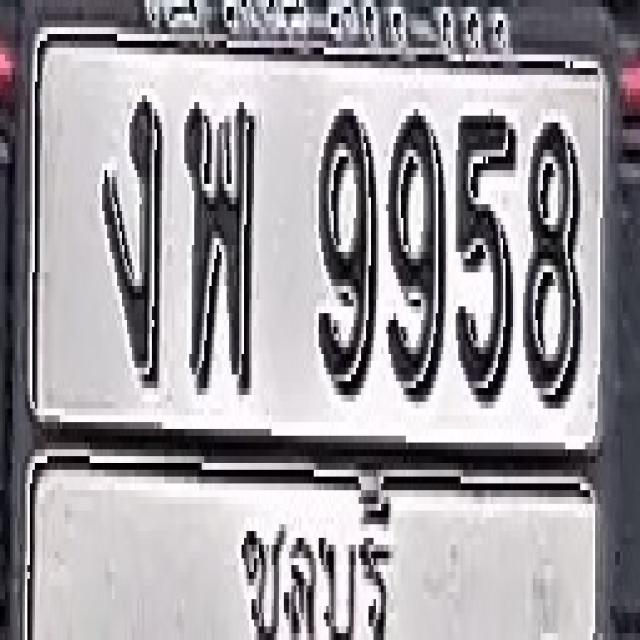5: (456, 109, 516, 402)
8: (523, 116, 580, 402)
9: (316, 102, 376, 395), (387, 109, 445, 402)
A07: (102, 92, 162, 385)
A30: (183, 98, 255, 392)
CBI: (228, 480, 398, 640)
